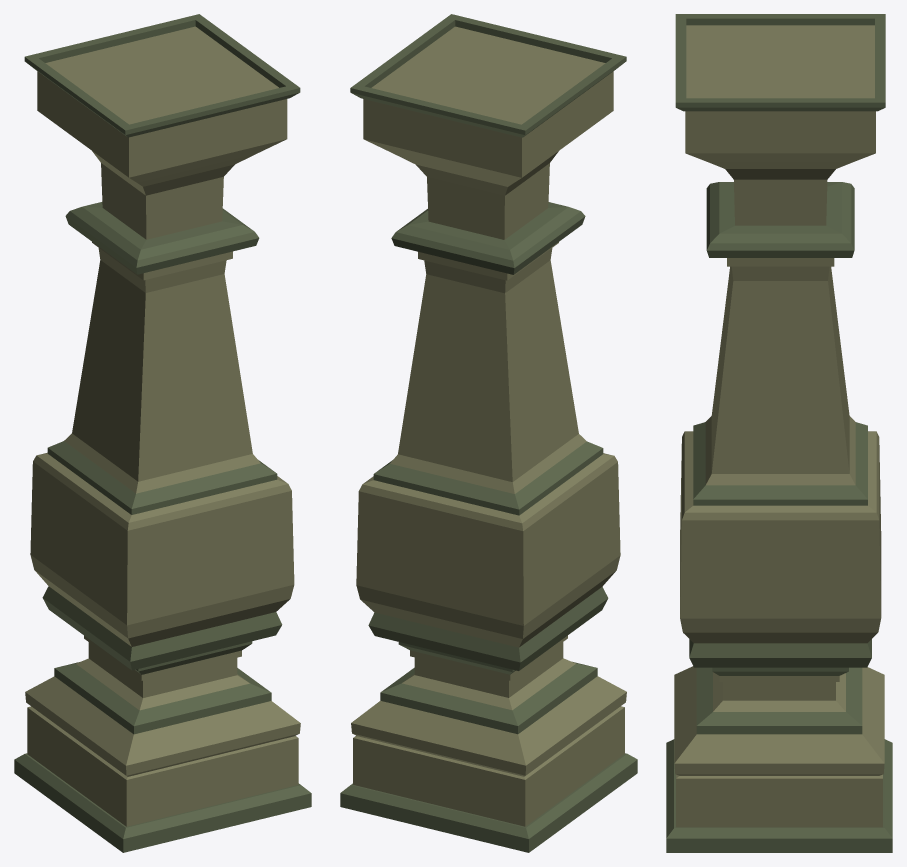
The model's file is column001.fbx.
The picture shows the model from 3 angles, left to right: view 1: azimuth 30°, elevation 25°; view 2: azimuth 150°, elevation 25°; view 3: azimuth 270°, elevation 25°; orthographic projection. The views are drawn at different scales.
Parts seen in each view (by area): view 1: Column001; view 2: Column001; view 3: Column001.
Part boxes in pixels (bbox=[...]): Column001: bbox=[14, 14, 311, 852]; Column001: bbox=[340, 14, 637, 852]; Column001: bbox=[666, 14, 892, 852].
Size of the model in its own units: 1.06 by 3.85 by 1.06.
